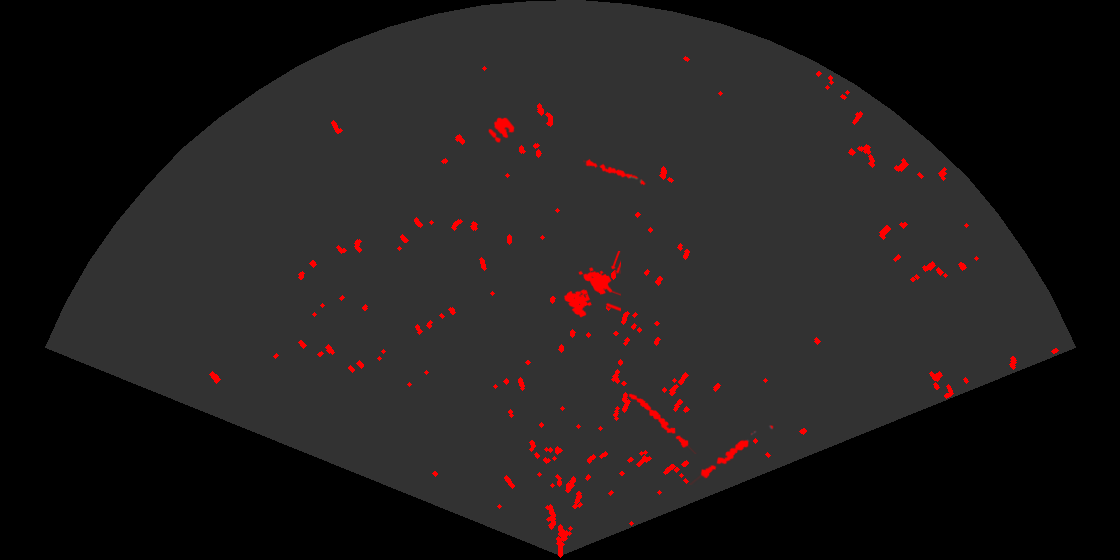ball: (487, 116, 516, 145)
cage: (562, 251, 621, 319)
chain: (689, 423, 775, 485), (627, 392, 698, 454), (583, 157, 648, 187)
